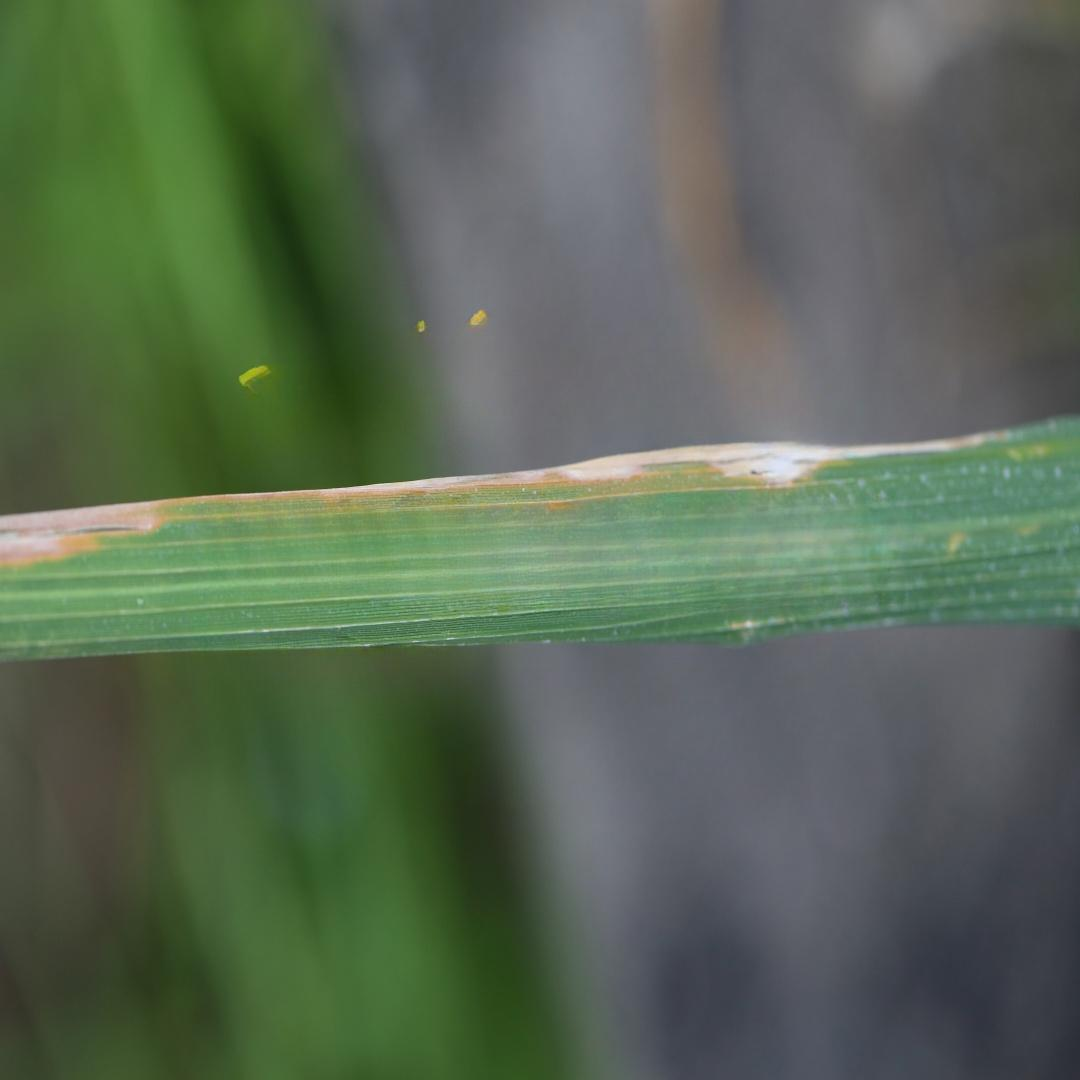BLB: (0, 430, 1013, 565)
LEAF: (0, 417, 1079, 660)
